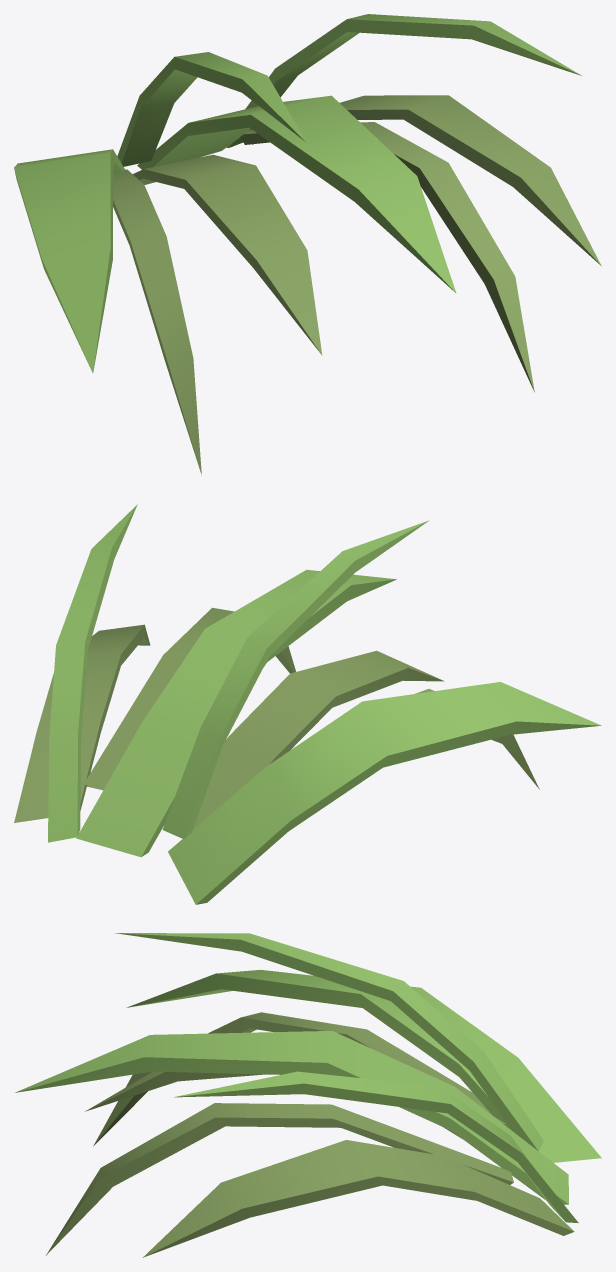
Rendered from caoc03.FBX.
3 views of the same model, one above another, from view 1: azimuth 30°, elevation 25°; view 2: azimuth 150°, elevation 25°; view 3: azimuth 270°, elevation 25° (orthographic). The views are drawn at different scales.
Visible parts, largest first — view 1: caoc03; view 2: caoc03; view 3: caoc03.
Part boxes in pixels (x1=…): caoc03: x1=14, y1=14, x2=601, y2=475; caoc03: x1=14, y1=504, x2=601, y2=904; caoc03: x1=14, y1=933, x2=601, y2=1257.
Size of the model in its own units: 46.18 by 25.63 by 50.21.
